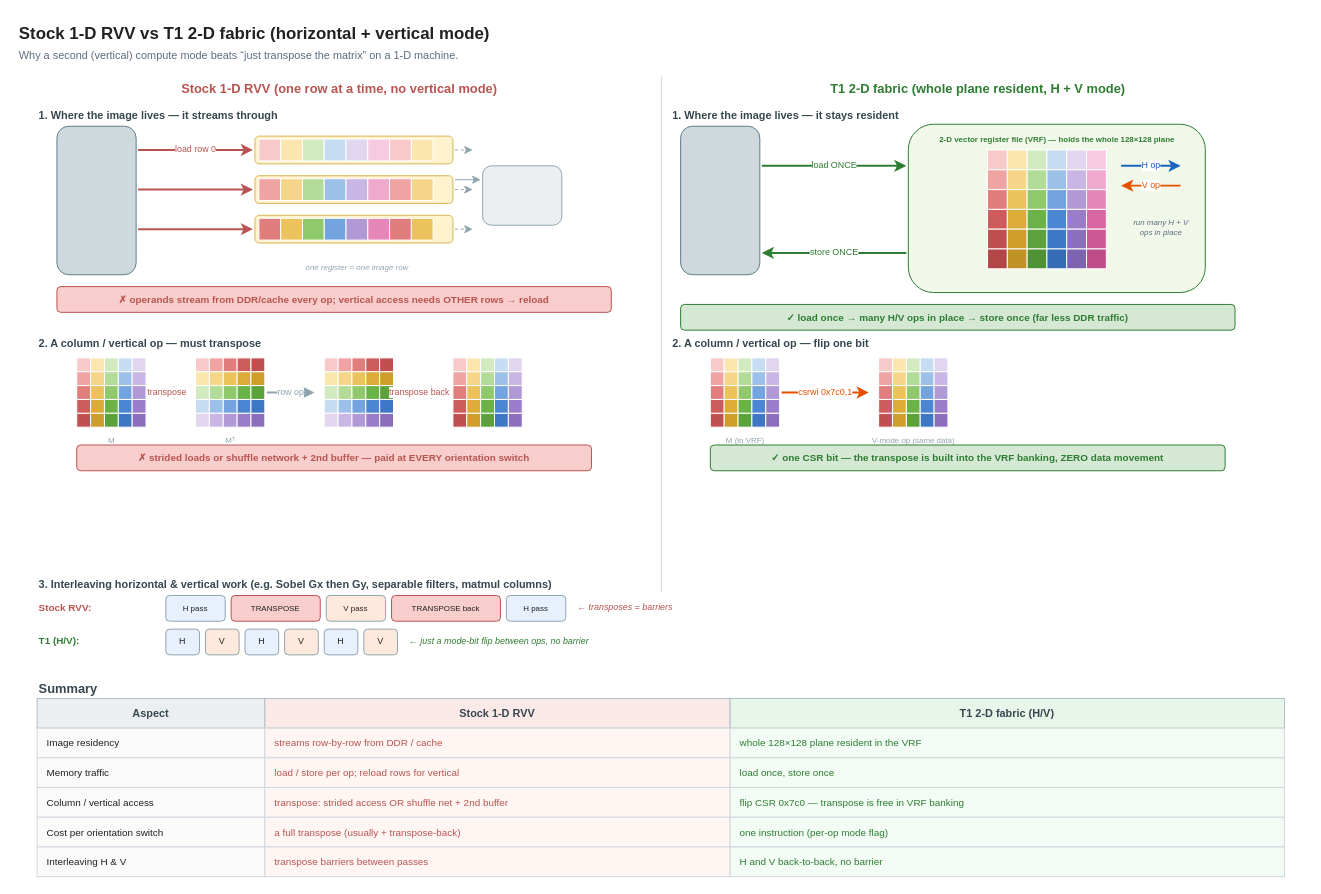
This 1321x894 diagram has some shape labels left out. The centre of each missing label's shape, as x and y in pixels:
ALU: [522,195]
DDR / cache: [720,200]
DDR / cache (image in memory): [96,200]
